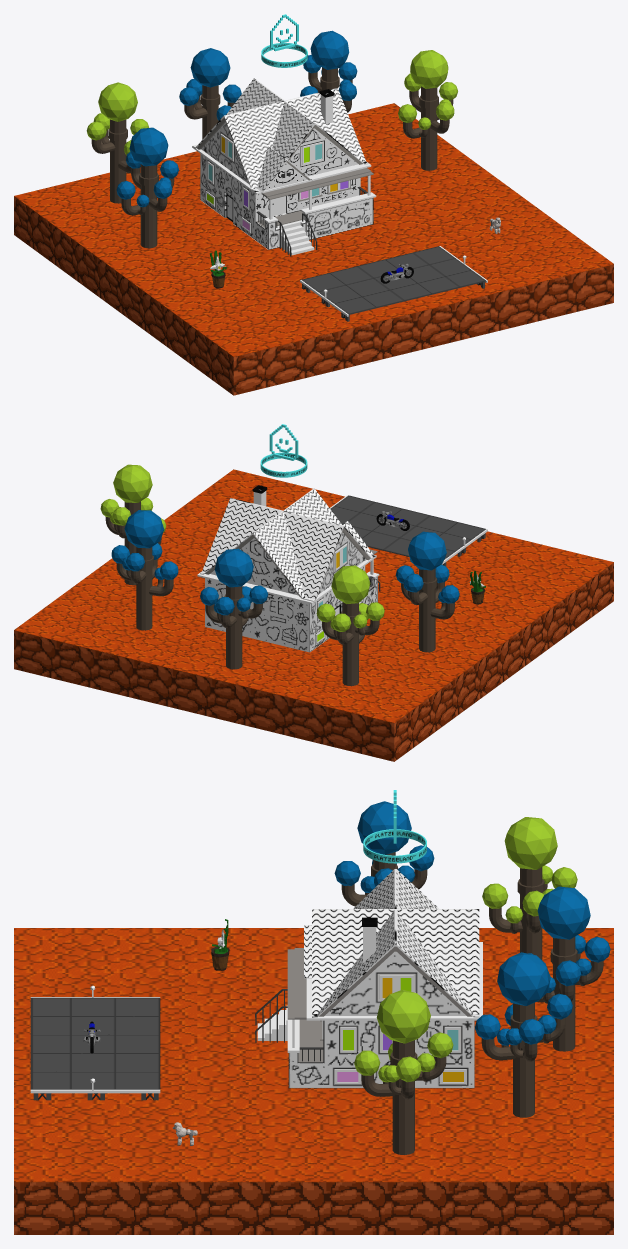
The picture shows the model from 3 angles, top to bottom: view 1: azimuth 30°, elevation 25°; view 2: azimuth 150°, elevation 25°; view 3: azimuth 270°, elevation 25°; orthographic projection. The views are drawn at different scales.
Parts seen in each view (by area): view 1: Cube.001, Cube.879, TYPE_PREMIUM; view 2: Cube.001, Cube.879, TYPE_PREMIUM; view 3: Cube.001, Cube.879, TYPE_PREMIUM.
Part boxes in pixels (x1=…): Cube.001: x1=14, y1=30, x2=613, y2=395; Cube.879: x1=192, y1=78, x2=376, y2=256; TYPE_PREMIUM: x1=261, y1=14, x2=307, y2=67; Cube.001: x1=14, y1=464, x2=613, y2=761; Cube.879: x1=197, y1=485, x2=380, y2=652; TYPE_PREMIUM: x1=260, y1=424, x2=307, y2=477; Cube.001: x1=14, y1=801, x2=613, y2=1234; Cube.879: x1=255, y1=869, x2=482, y2=1088; TYPE_PREMIUM: x1=363, y1=790, x2=426, y2=863.
Size of the model in its own units: 4000 by 2410 by 4000.
Materials: 37 (12 with a texture image).
